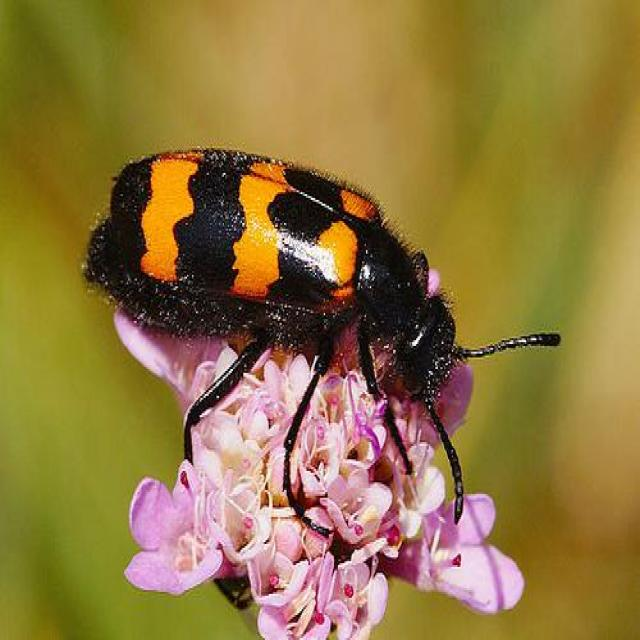BlisterBeetle-Adult-: (76, 133, 573, 536)
